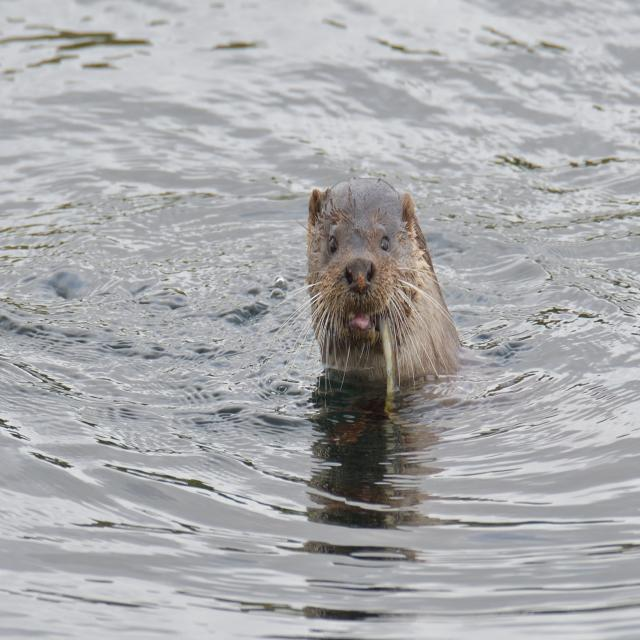otter: (310, 178, 453, 378)
